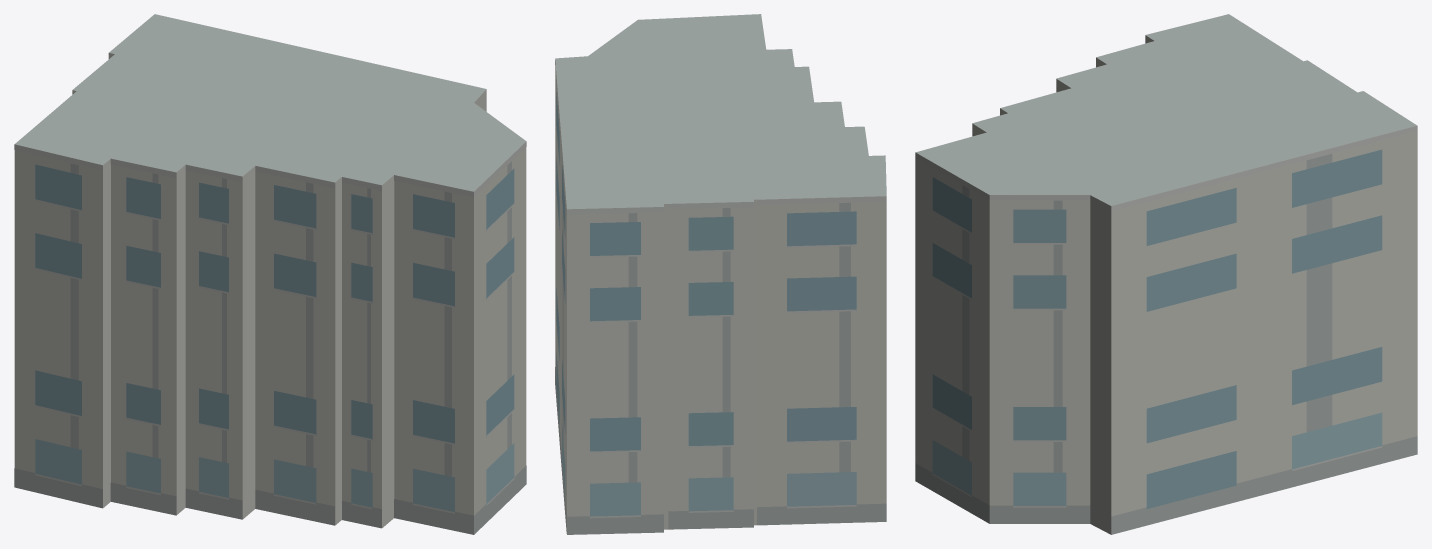
The model's file is survey-upis-32885280.glb.
The picture shows the model from 3 angles, left to right: view 1: azimuth 30°, elevation 25°; view 2: azimuth 150°, elevation 25°; view 3: azimuth 270°, elevation 25°; orthographic projection. The views are drawn at different scales.
Visible parts, largest first — view 1: survey-upis-32885280.tmp; view 2: survey-upis-32885280.tmp; view 3: survey-upis-32885280.tmp.
Boxes of the visible parts, bbox=[...] form: survey-upis-32885280.tmp: bbox=[14, 14, 526, 534]; survey-upis-32885280.tmp: bbox=[555, 14, 886, 534]; survey-upis-32885280.tmp: bbox=[915, 14, 1417, 534].
Size of the model in its own units: 17.93 by 14.3 by 19.8.
